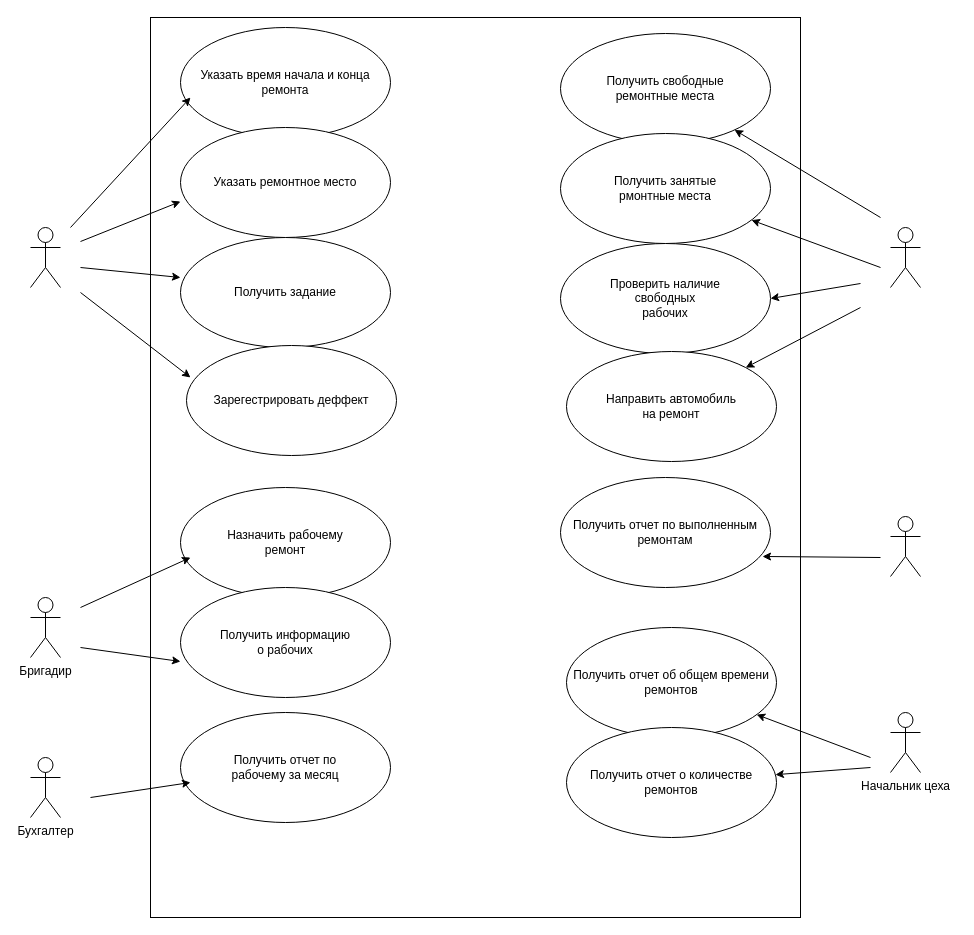
The diagram is 974 pixels wide and 935 high, and some of its shapes have lost their labels. The shapes that lost their labels are listed below. From the top down, each one's centre as x and y in pixels, then its label:
At (45,257): "Рабочий".
At (905,257): "Диспетчер".
At (905,546): "Контроль качетсва".
